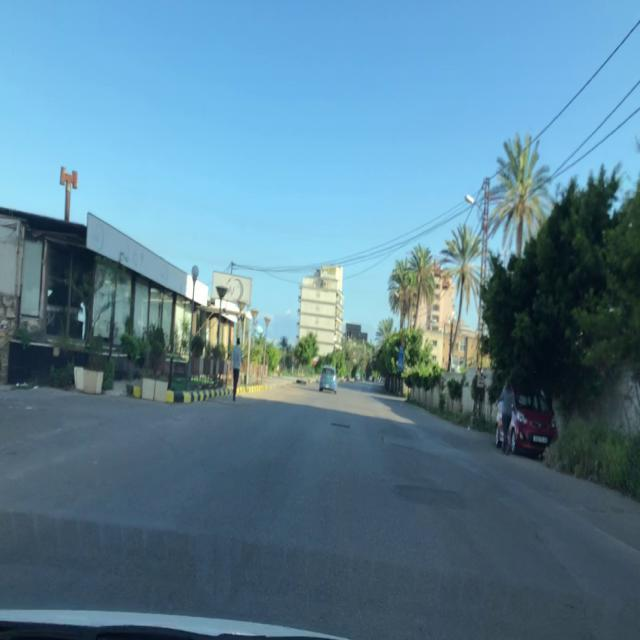pothole: (329, 422, 352, 429)
